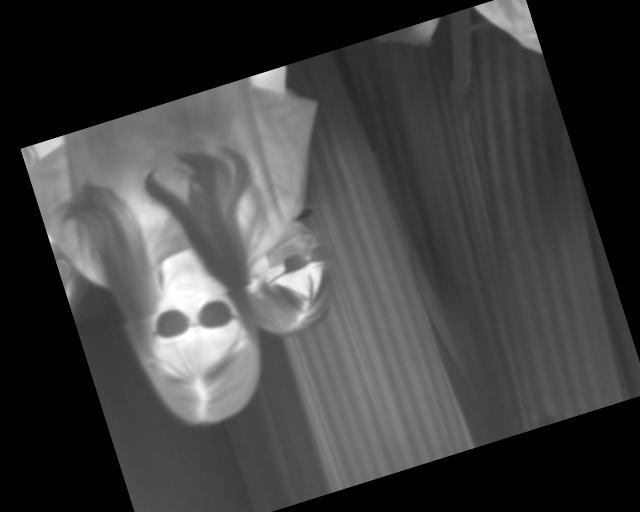face: (121, 254, 270, 437), (233, 210, 350, 343)
